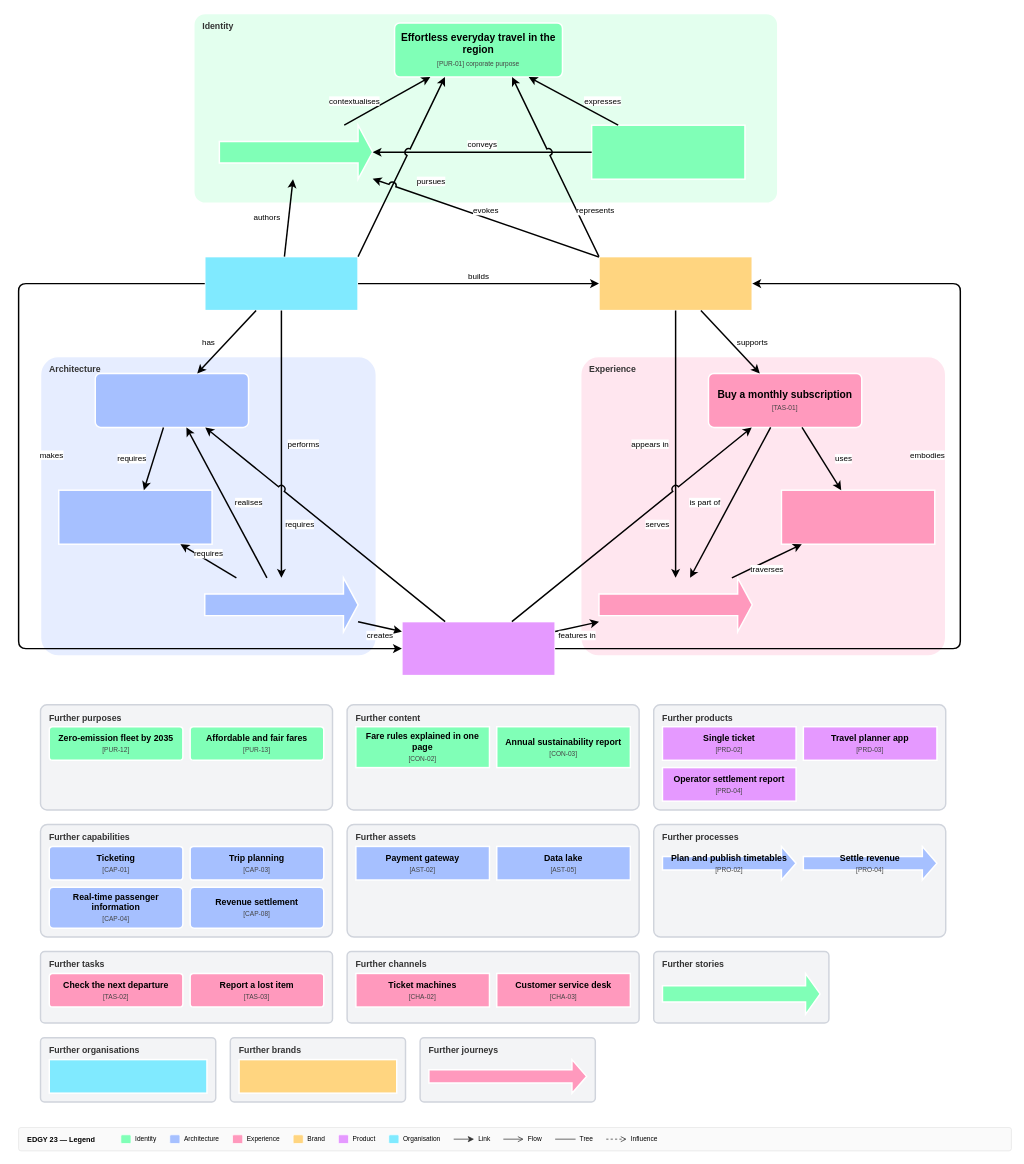
Some shapes in this 1024 by 1164 pixel diagram are drawn without their labels. The centre of each missing label's shape, as x and y in pixels:
"Account-based ticketing platform [AST-01]" belongs at point 135,517.
"Account-based travel [CAP-02]" belongs at point 171,400.
"Acme Transit [ORG-01]" belongs at point 281,283.
"Acme Transit brand [BRA-01]" belongs at point 675,283.
"Commute across two operators [JOU-01]" belongs at point 675,604.
"From a single bus line to a regional mobility platform [STO-01]" belongs at point 295,152.
"Mobile app [CHA-01]" belongs at point 857,517.
"Night Rider [BRA-02]" belongs at point 317,1076.
"Occasional trip to the airport [JOU-02]" belongs at point 507,1076.
"Regional operators' consortium [ORG-02]" belongs at point 127,1076.
"Regional travel subscription [PRD-01]" belongs at point 478,648.
"Sell and validate tickets [PRO-01]" belongs at point 281,604.
"The night the storm closed the bridge [STO-02]" belongs at point 741,993.
"We keep the region moving [CON-01] plain-language promise" belongs at point 668,152.
